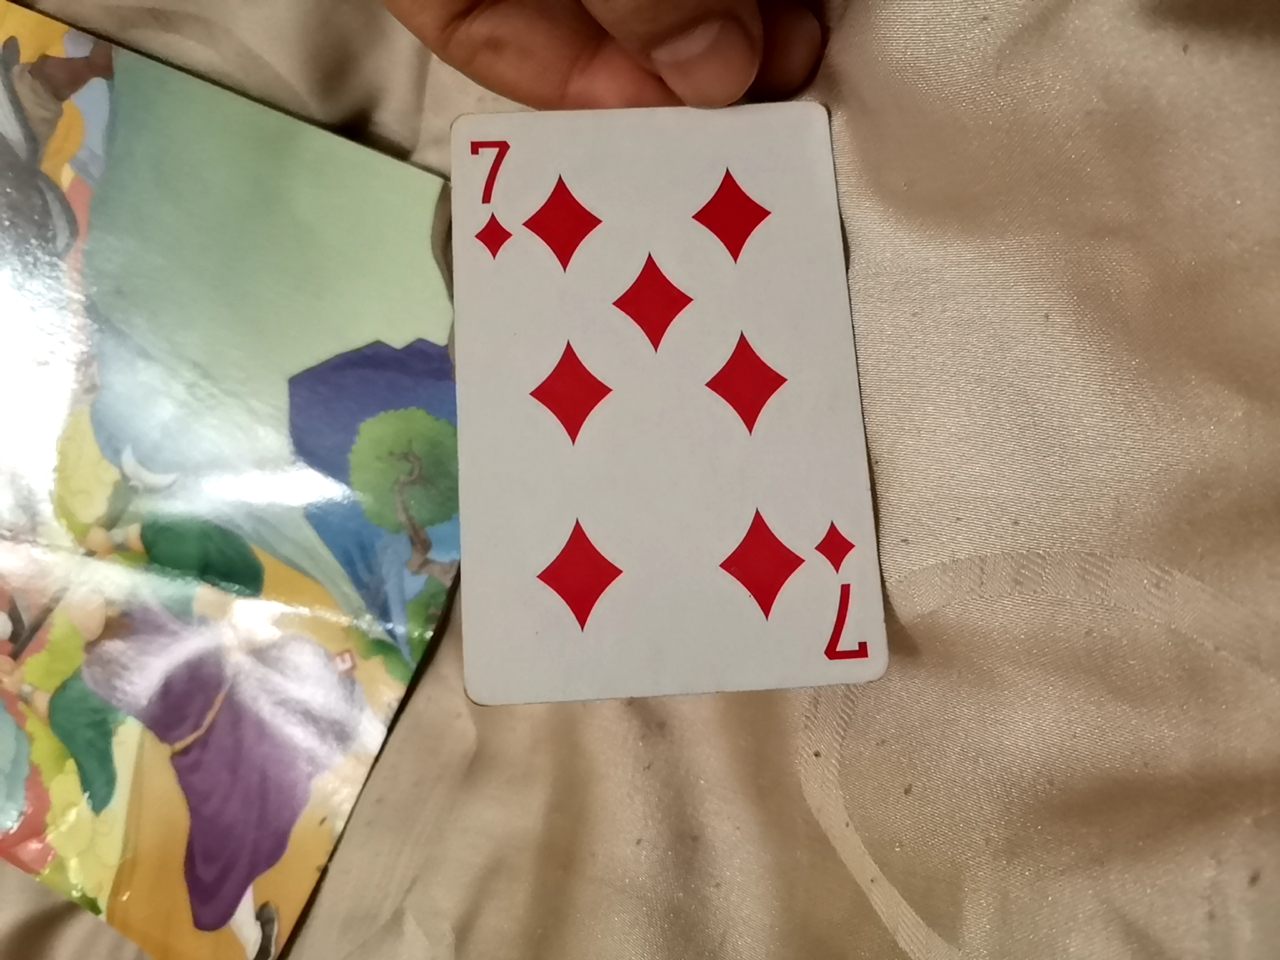fk 7: (446, 84, 867, 716)
